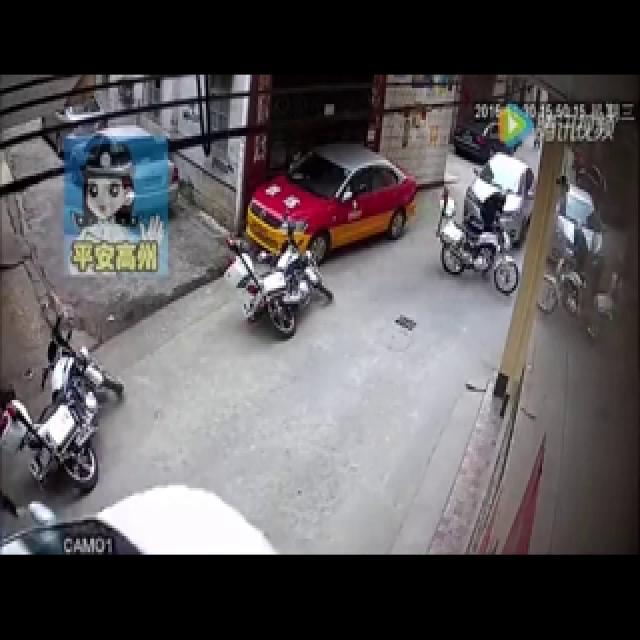arrest: (435, 76, 597, 365), (422, 84, 468, 315), (494, 322, 531, 342)
